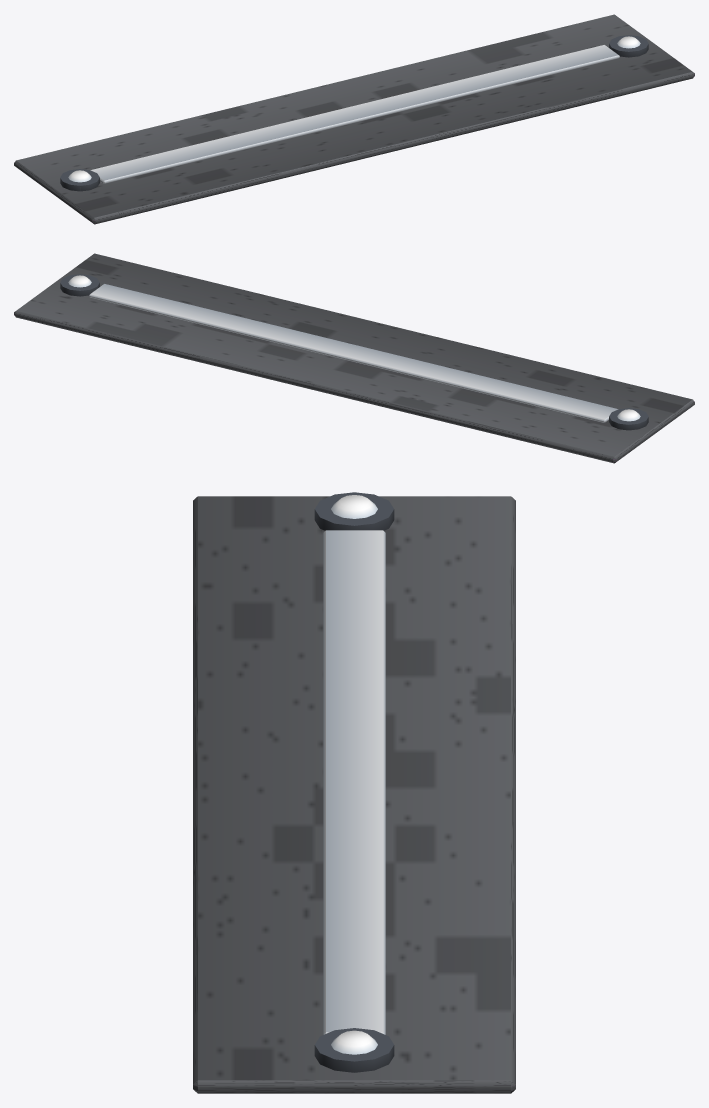
Rendered from ck_road_marking_dash.fbx.
3 views of the same model, one above another, from view 1: azimuth 30°, elevation 25°; view 2: azimuth 150°, elevation 25°; view 3: azimuth 270°, elevation 25° (orthographic). The views are drawn at different scales.
Visible parts, largest first — view 1: ck_road_marking_dash; view 2: ck_road_marking_dash; view 3: ck_road_marking_dash.
Part boxes in pixels (x1,y1,x2,y2): ck_road_marking_dash: [14, 14, 694, 224]; ck_road_marking_dash: [14, 253, 694, 463]; ck_road_marking_dash: [193, 492, 515, 1093].
Size of the model in its own units: 390 by 10.1 by 90.54.
